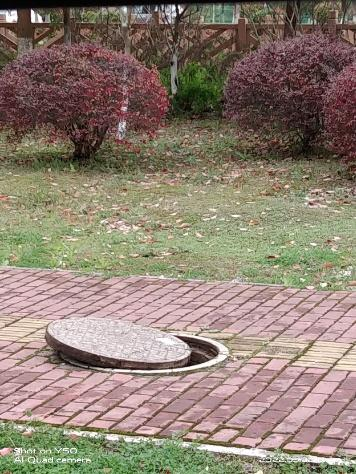wellcover: (47, 314, 220, 378)
